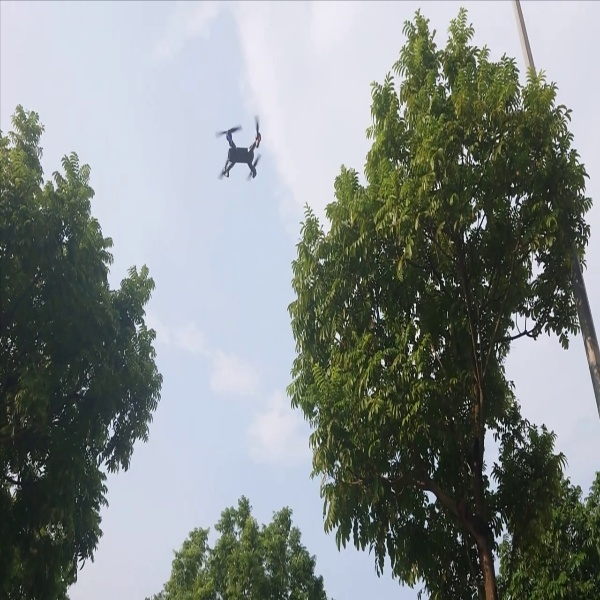drone: (210, 111, 278, 191)
